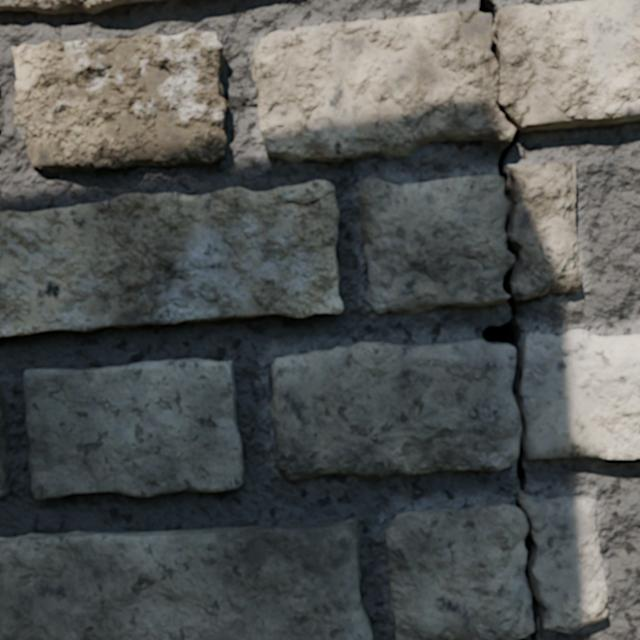broken_brick: (252, 0, 639, 162), (270, 339, 520, 481), (358, 175, 514, 315), (386, 502, 533, 639), (521, 329, 639, 459), (517, 495, 608, 633), (509, 162, 582, 300)
crack: (0, 180, 343, 337), (0, 517, 372, 639), (23, 358, 245, 499), (12, 29, 228, 173), (482, 104, 528, 497), (515, 499, 550, 639), (0, 0, 161, 14), (478, 0, 503, 69), (0, 382, 11, 496), (497, 73, 503, 91), (262, 145, 267, 155)
